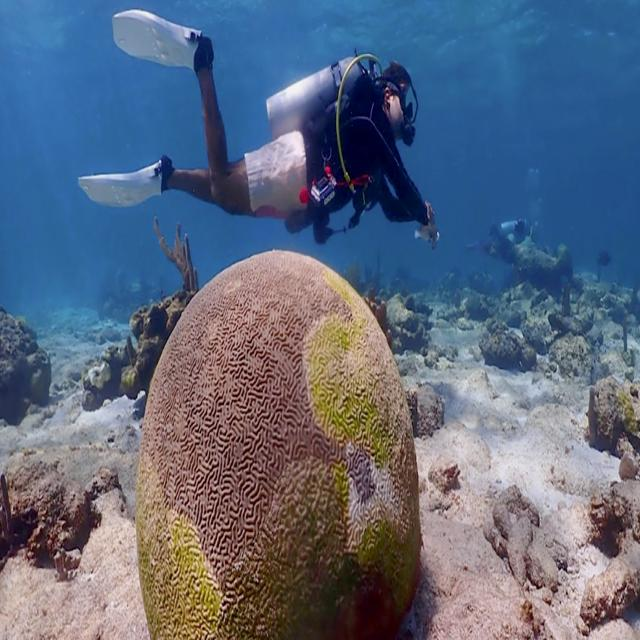Coral: (135, 249, 423, 640)
